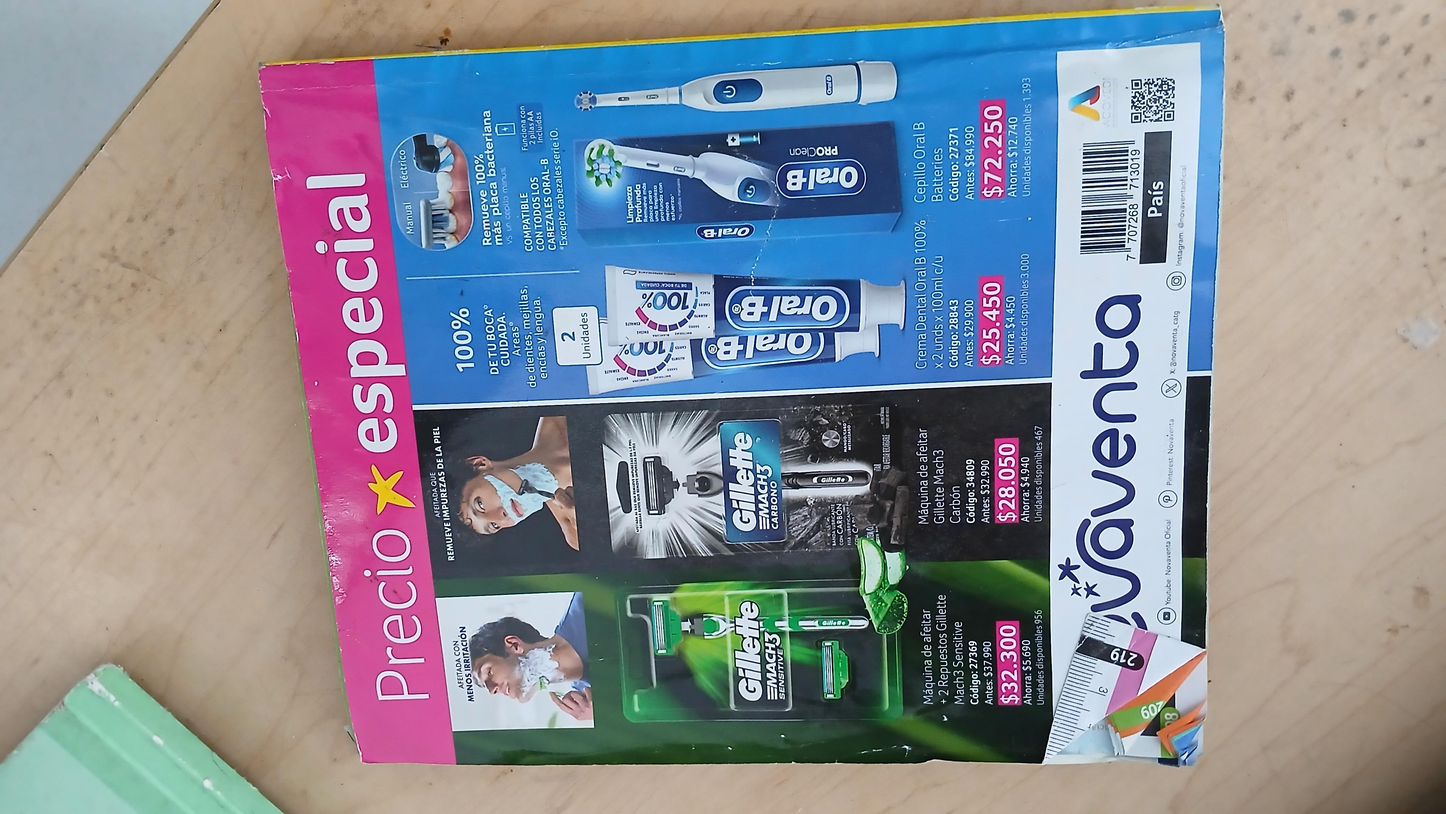Papel: (248, 3, 1220, 767)
